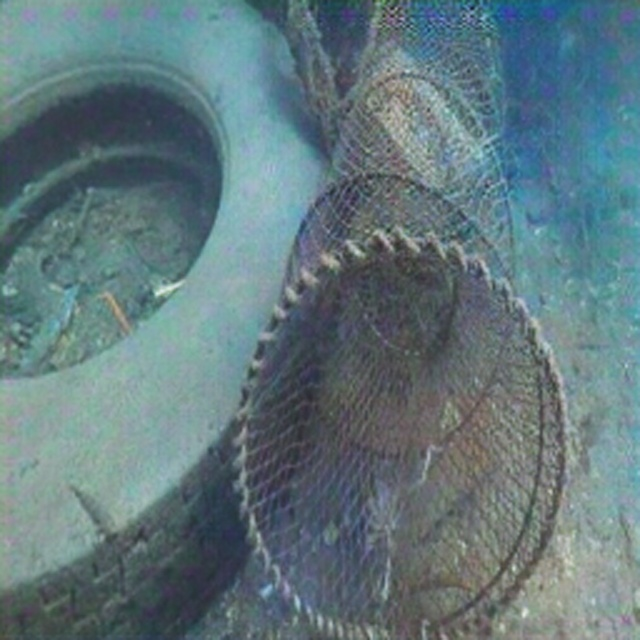mine: (231, 0, 569, 639), (0, 0, 330, 639)
